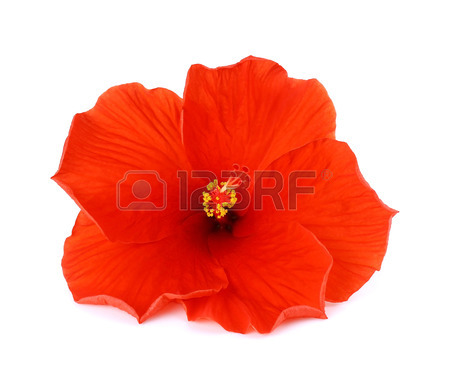Hibiscus: (56, 58, 403, 343)
